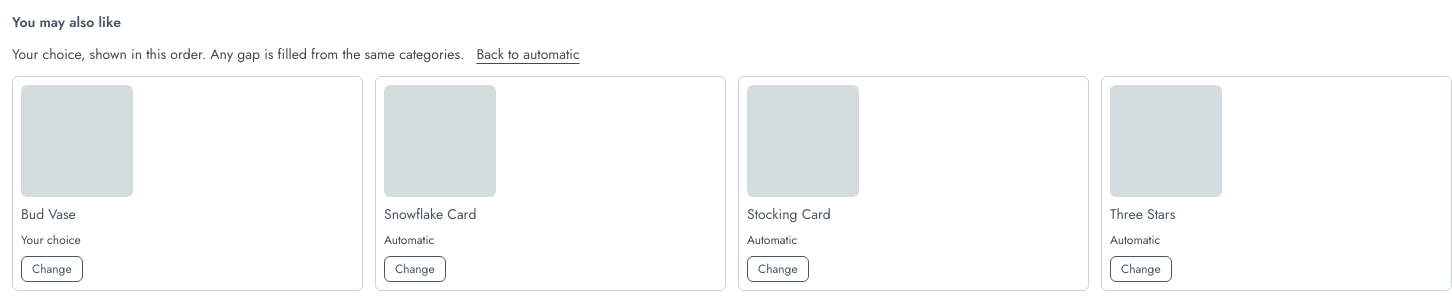
Test: AlsoLikeField › goes back to the automatic pieces
Step 1. Click the button "Back to automatic" → coordinates (528, 54), box [476,44,580,64]
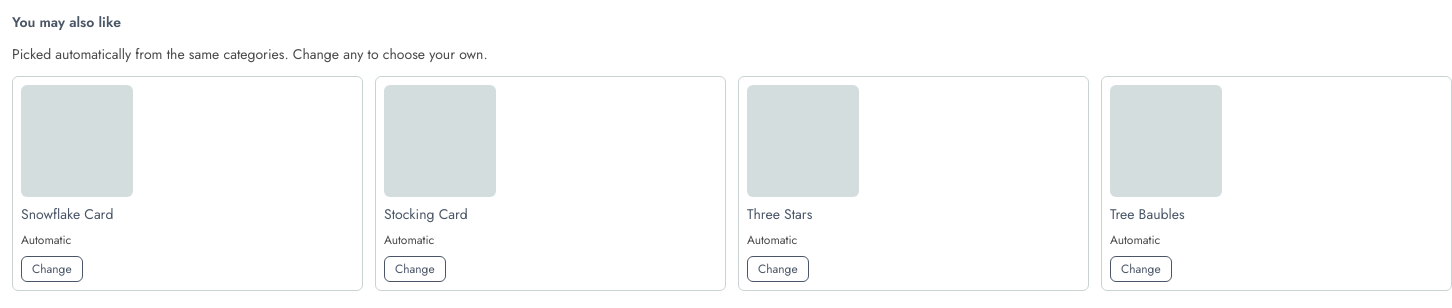
Expected: the button "Back to automatic" is gone
